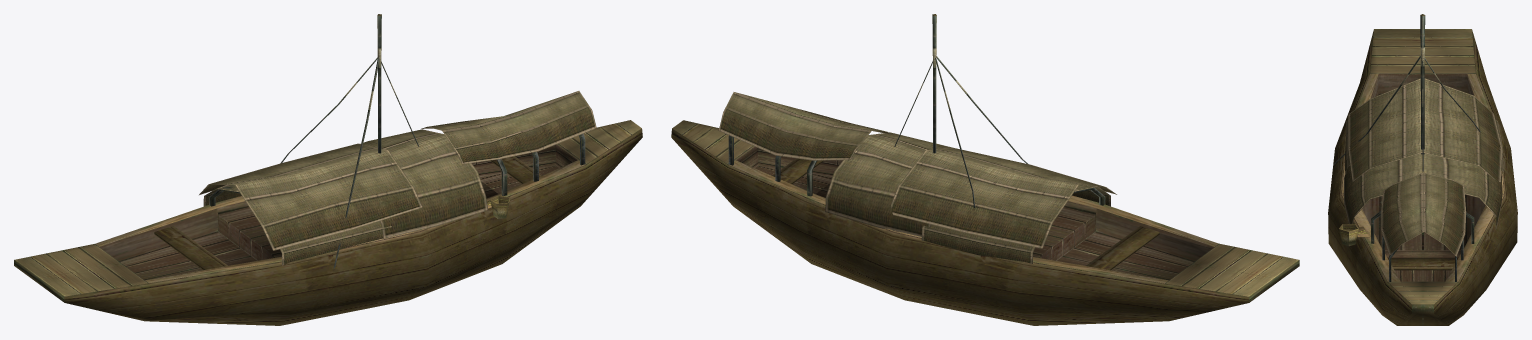
File: chuan_01.FBX
3 views of the same model, side by side, from view 1: azimuth 30°, elevation 25°; view 2: azimuth 150°, elevation 25°; view 3: azimuth 270°, elevation 25° (orthographic). The views are drawn at different scales.
Visible parts, largest first — view 1: chuan_01; view 2: chuan_01; view 3: chuan_01.
Part boxes in pixels (bbox=[...]): chuan_01: bbox=[14, 14, 642, 325]; chuan_01: bbox=[671, 14, 1299, 325]; chuan_01: bbox=[1328, 14, 1517, 325].
Bounding box in the file's own units: 0.848 × 0.3566 × 0.2395.
1 material, 1 textured.
